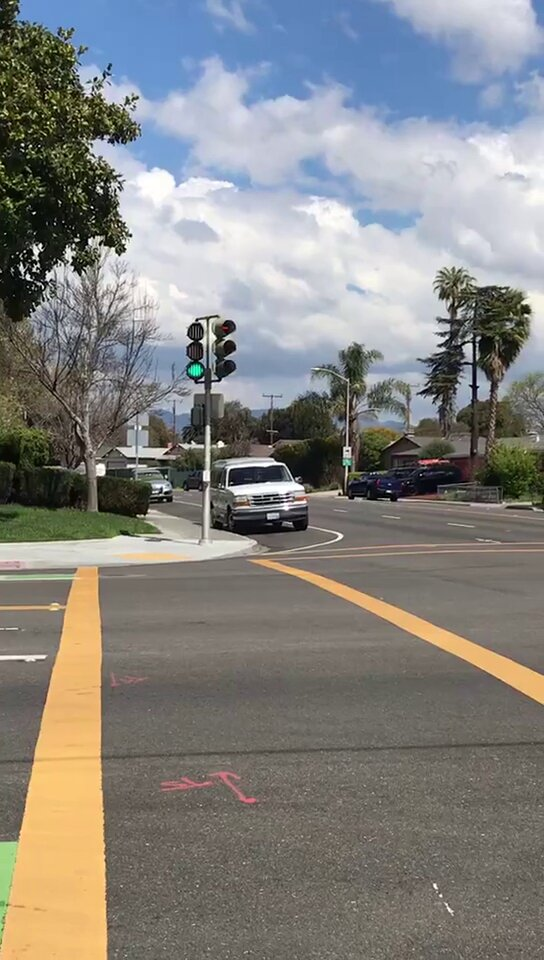green_light: (187, 324, 206, 381)
